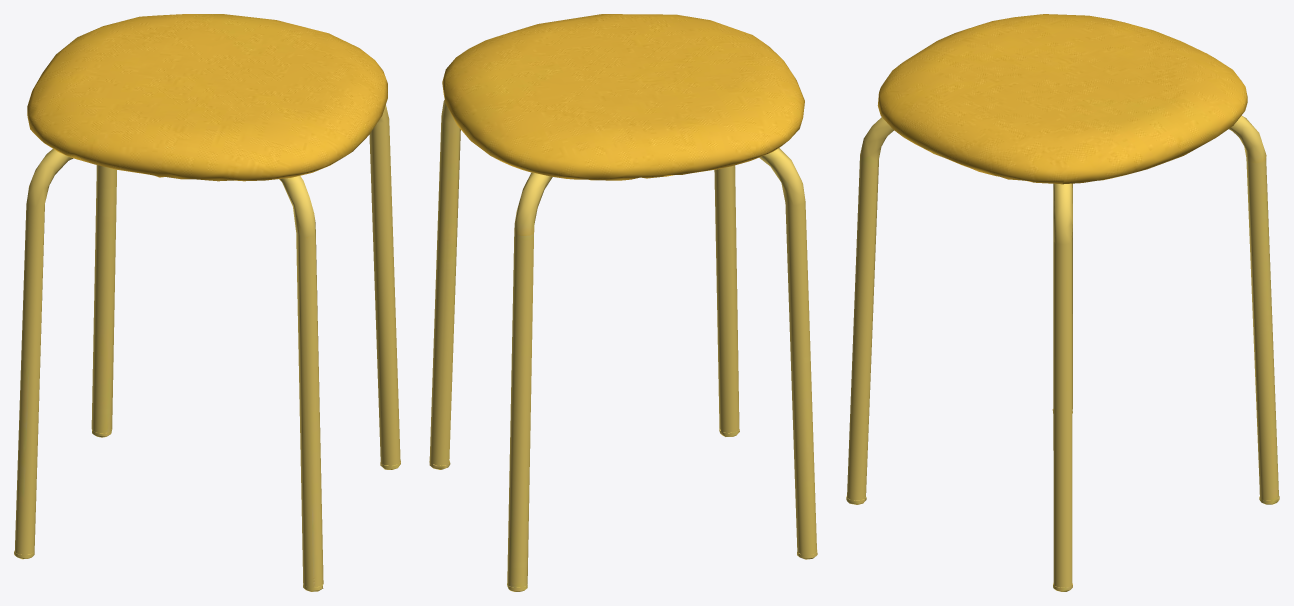
File: 10 - GULTARP - 椅凳, 淺黃色Remmarn 黃色 IKEA 線上購物.glb
3 views of the same model, side by side, from view 1: azimuth 30°, elevation 25°; view 2: azimuth 150°, elevation 25°; view 3: azimuth 270°, elevation 25° (orthographic). The views are drawn at different scales.
Parts seen in each view (by area): view 1: ASY_ART_20612990_S01_NV01; view 2: ASY_ART_20612990_S01_NV01; view 3: ASY_ART_20612990_S01_NV01.
Boxes of the visible parts, x1=… form: ASY_ART_20612990_S01_NV01: x1=14, y1=14, x2=400, y2=591; ASY_ART_20612990_S01_NV01: x1=429, y1=14, x2=817, y2=591; ASY_ART_20612990_S01_NV01: x1=846, y1=14, x2=1279, y2=591.
Bounding box in the file's own units: 0.409 × 0.4448 × 0.4092.
Materials: 1 (1 with a texture image).
